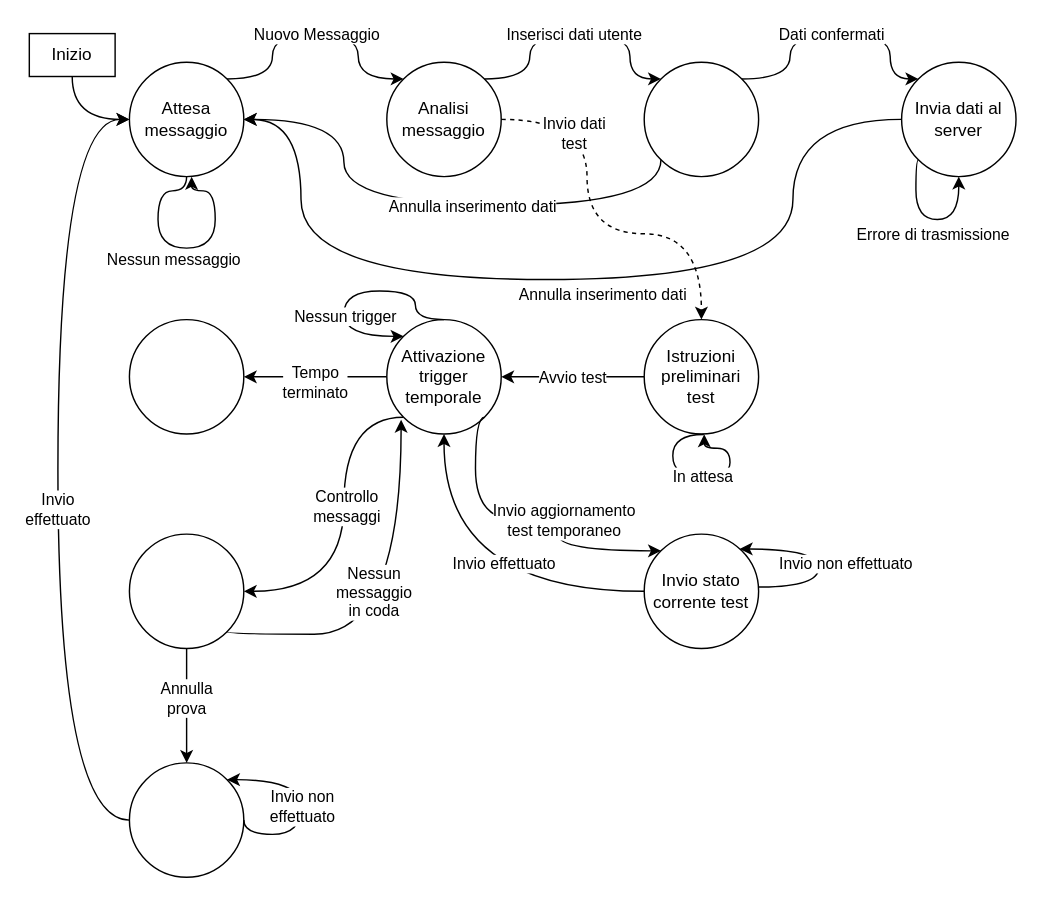
Image size: 1041x902. Some labels were removed from this diagram. Here are the shapes that lost their labels. From the top down, the centre of each, then its label:
point (701, 119): Mostra finestra per chiedere i dati utente
point (186, 376): Invia stato test finale
point (186, 591): Controllo coda messaggi
point (186, 819): Invia stato prova annullata
